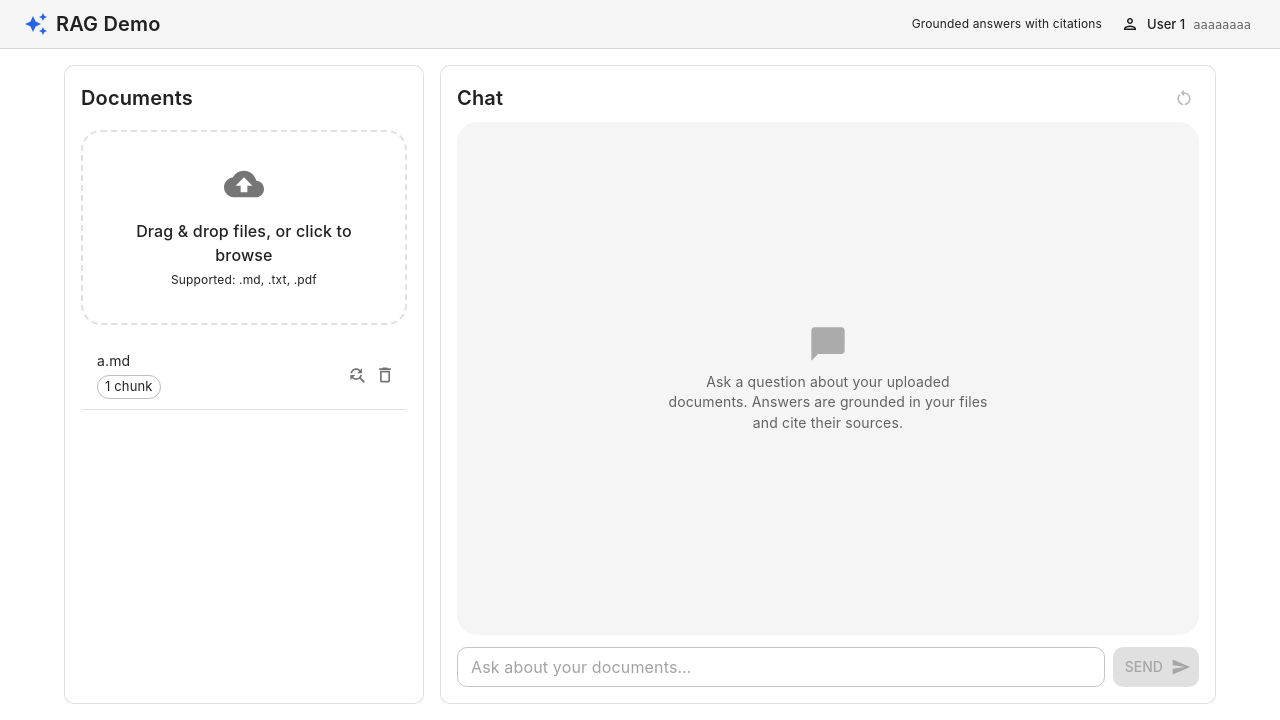
Scenario: App user switching › re-fetches documents from the API when switching back to an existing user
This screenshot has width=1280, height=720.
Expected: the text "a.md" is shown, [97,352,130,369]
// Switch to a brand-new user: their corpus is empty (isolation).
What coordinates should you click on to do the following:
click the button with aria-label "Switch user"
I would click on:
 (1187, 24)
Its box is [1118,8,1256,40].
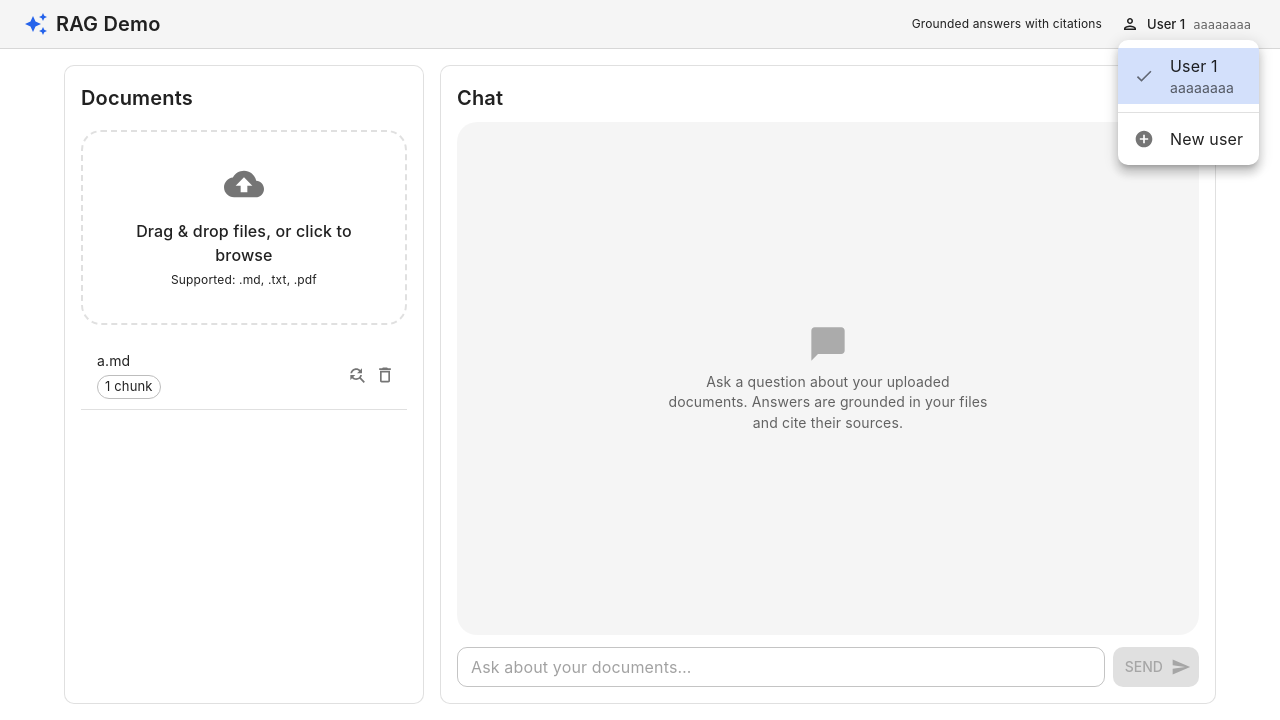
What coordinates should you click on to do the following:
click the menu item "New user"
I would click on:
 (1189, 139)
Its box is [1134,129,1243,149].
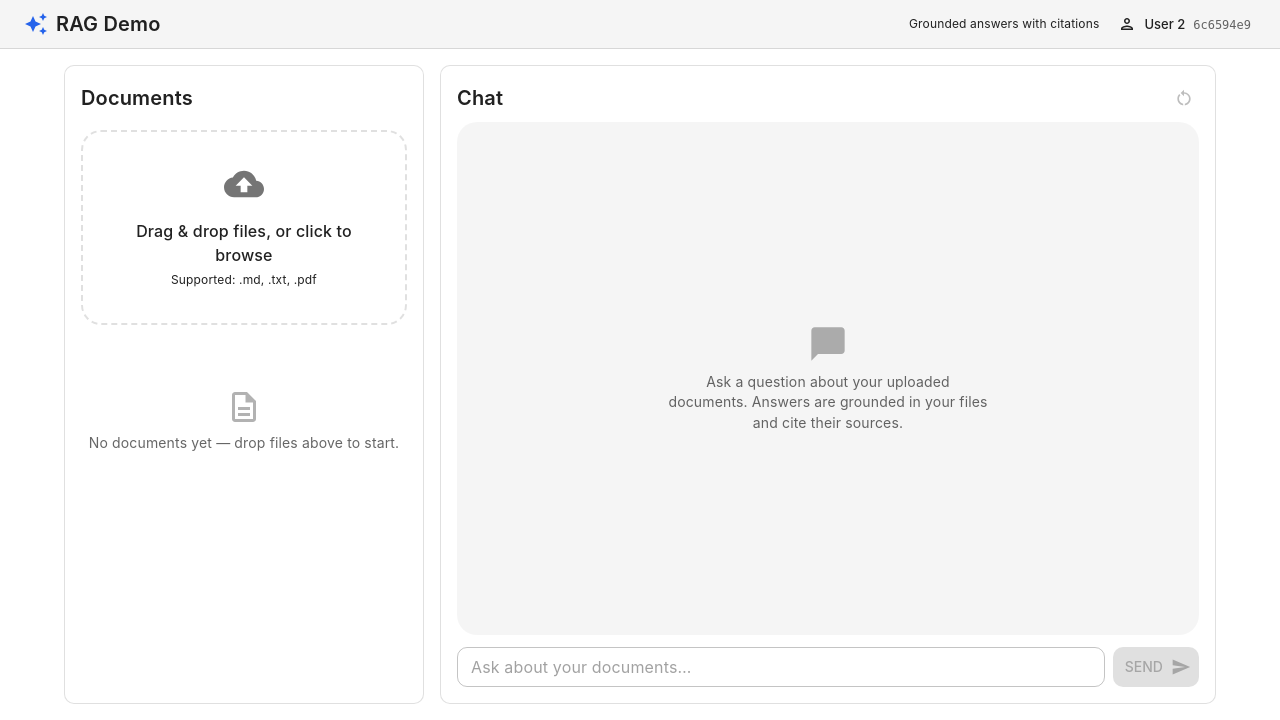
Expected: the text "No documents yet — drop files above to start." is shown, [89,433,399,453]
Expected: the text "a.md" is gone
What coordinates should you click on to do the following:
click the button with aria-label "Switch user"
I would click on:
 (1186, 24)
Its box is [1115,8,1256,40].
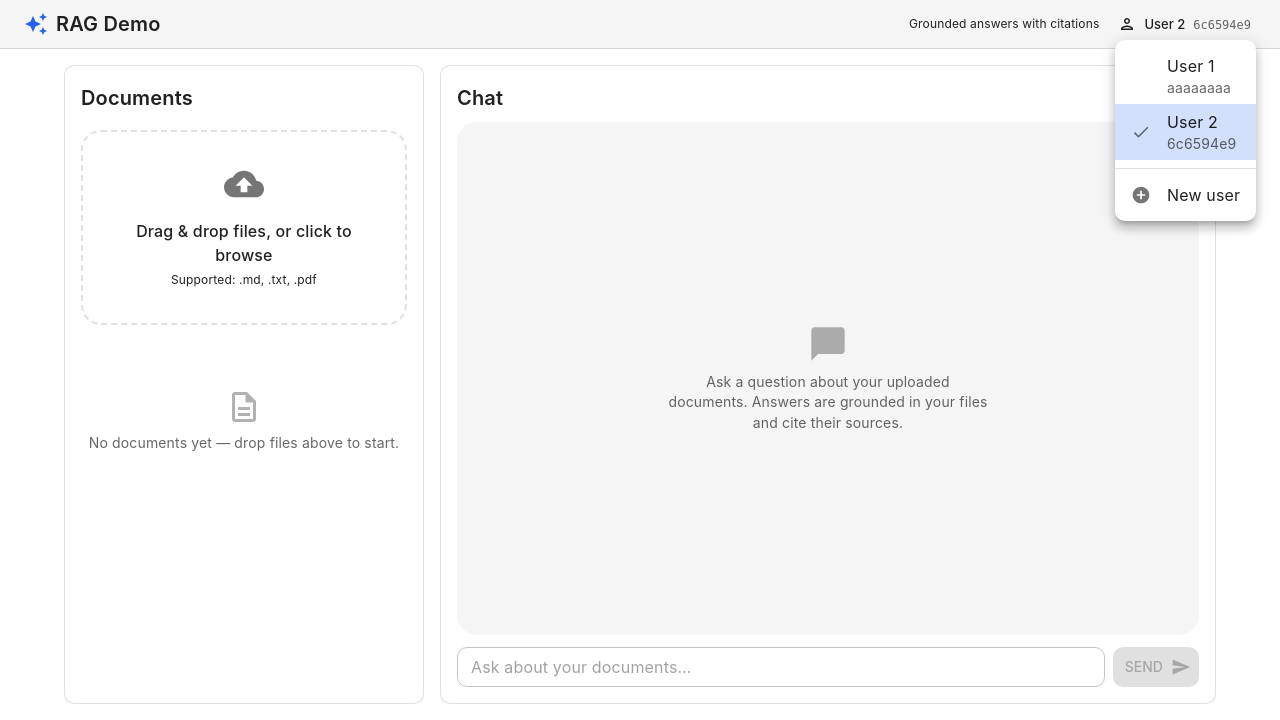
What coordinates should you click on to do the following:
click the menu item "User 1 aaaaaaaa"
I would click on:
 (1199, 76)
Its box is [1167,56,1231,96].
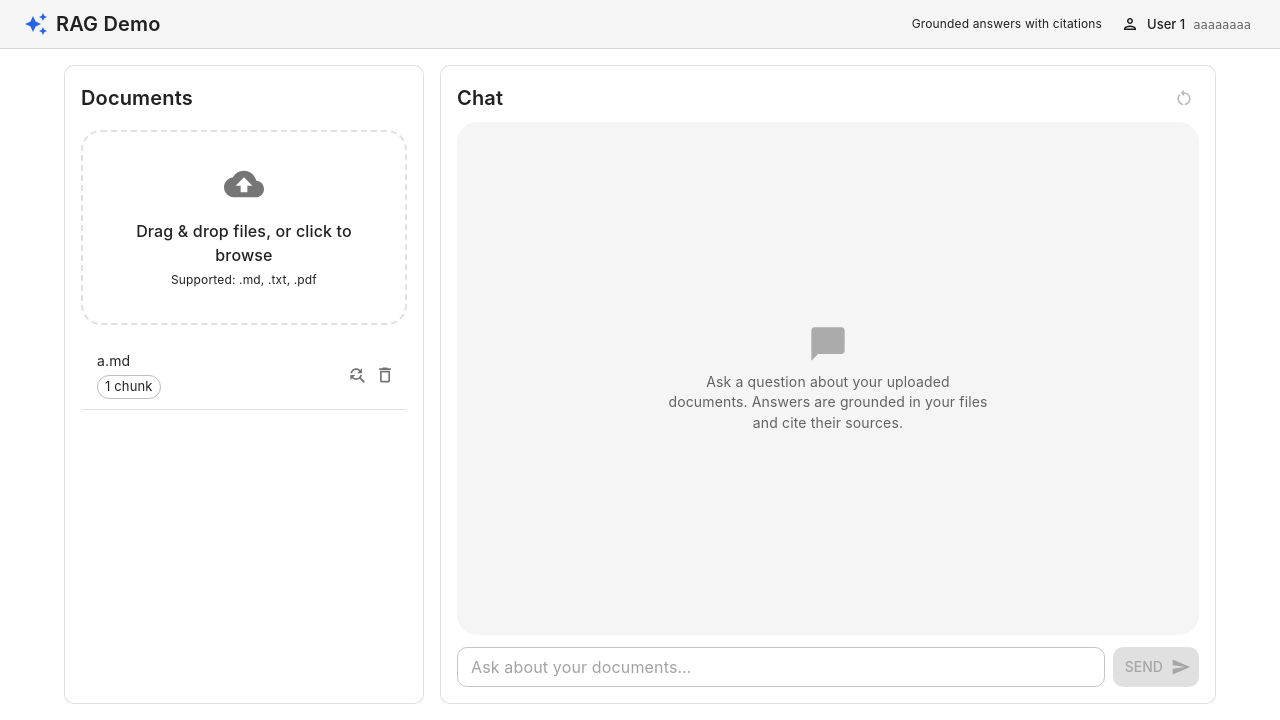
Expected: the text "a.md" is shown, [97,352,130,369]
